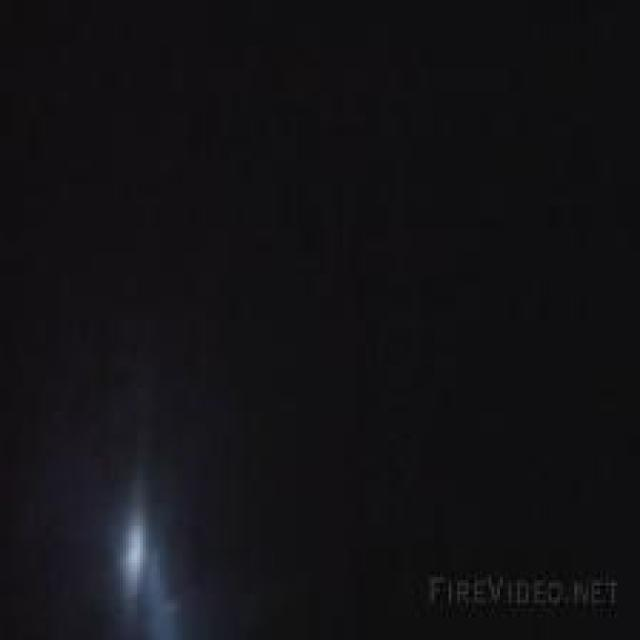other: (103, 500, 166, 608)
